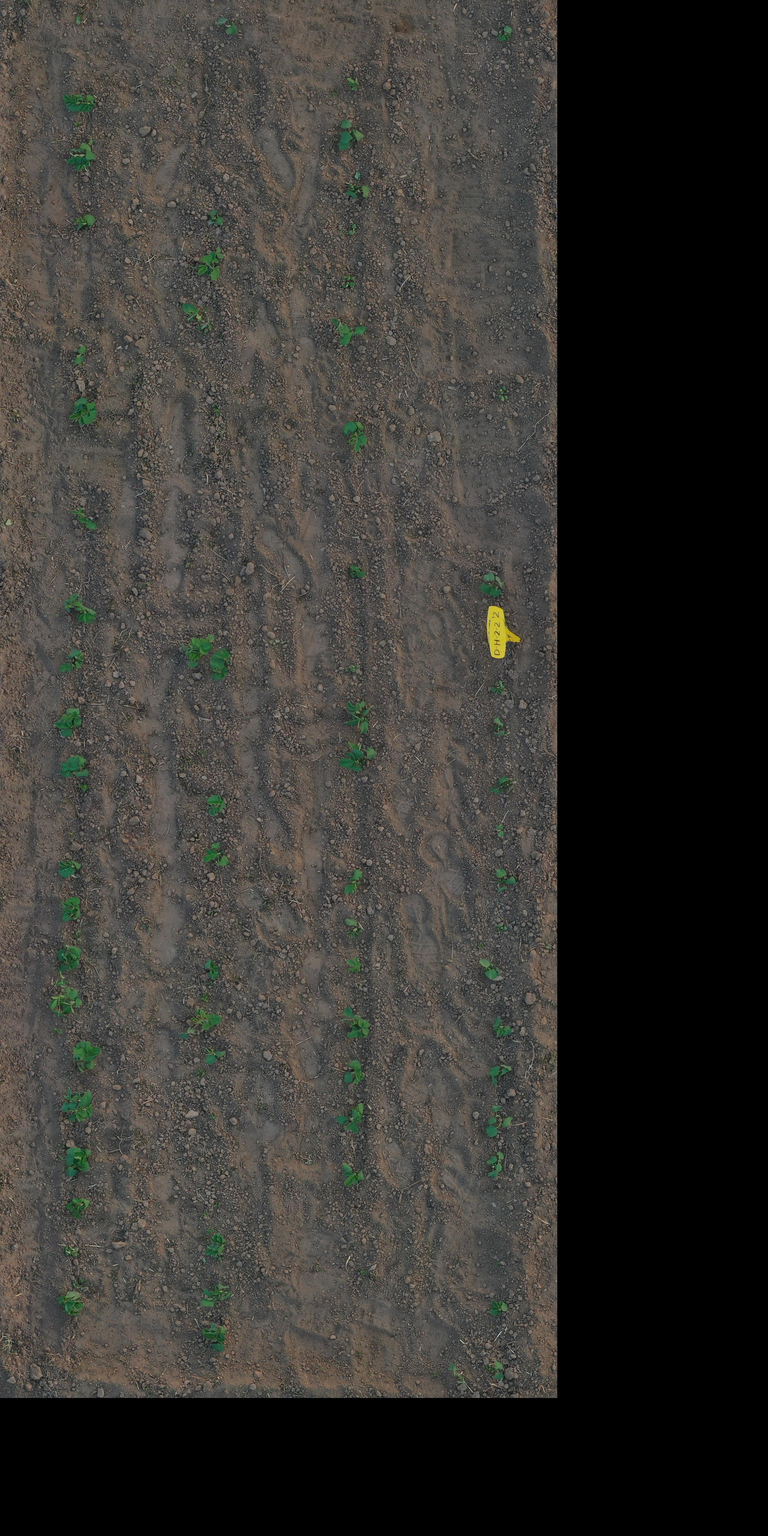s: (182, 302, 212, 334), (60, 1086, 93, 1113), (345, 704, 374, 734), (75, 1040, 102, 1070), (180, 634, 214, 655), (59, 986, 83, 1015), (73, 142, 96, 172), (347, 741, 377, 764), (178, 1024, 219, 1040), (336, 1109, 362, 1134), (203, 842, 229, 866), (72, 1046, 95, 1073), (54, 716, 82, 738), (339, 748, 364, 772), (69, 406, 98, 426), (342, 1162, 365, 1187), (486, 1116, 512, 1138), (190, 1007, 223, 1024), (338, 130, 364, 151), (339, 326, 366, 346), (340, 1006, 370, 1024), (209, 654, 228, 682), (202, 1322, 226, 1343), (57, 944, 82, 964), (68, 1103, 93, 1123), (343, 1060, 362, 1086), (58, 1291, 80, 1313), (447, 1362, 468, 1385), (206, 794, 226, 817), (344, 869, 362, 894), (65, 1160, 90, 1178), (63, 593, 84, 614), (348, 431, 368, 453), (58, 859, 81, 878), (48, 994, 66, 1018), (206, 251, 220, 281), (344, 918, 364, 939), (216, 16, 238, 35), (490, 775, 512, 794), (72, 214, 96, 231), (340, 120, 356, 145), (60, 952, 80, 972), (72, 1148, 92, 1168), (479, 958, 497, 980), (204, 1047, 226, 1065), (346, 184, 370, 200), (211, 1328, 227, 1352), (62, 93, 82, 112), (76, 606, 97, 624), (496, 868, 517, 886), (210, 1283, 231, 1301), (197, 254, 214, 276), (210, 1233, 226, 1256), (331, 318, 350, 337), (75, 94, 95, 112), (346, 1024, 370, 1039), (59, 707, 80, 724), (65, 1146, 82, 1167), (342, 420, 364, 436), (204, 958, 220, 980), (63, 1301, 85, 1317), (61, 754, 86, 768), (200, 1289, 218, 1308), (67, 648, 84, 668), (74, 396, 96, 411), (480, 572, 495, 594), (488, 1064, 512, 1077), (490, 576, 504, 598), (71, 506, 88, 524), (213, 648, 231, 665), (60, 768, 89, 778), (66, 1202, 82, 1220), (492, 1068, 510, 1084), (490, 1300, 508, 1316), (486, 1156, 499, 1178), (346, 700, 366, 714), (488, 1105, 502, 1125), (74, 344, 87, 365), (352, 1064, 365, 1085), (186, 651, 202, 668), (62, 907, 80, 922), (72, 1197, 90, 1212), (61, 896, 80, 910), (492, 1024, 512, 1037), (497, 25, 512, 42), (346, 956, 361, 973), (492, 1360, 504, 1381), (209, 209, 224, 225), (204, 1242, 219, 1258), (351, 1102, 364, 1120), (493, 717, 505, 736), (66, 148, 79, 165), (349, 565, 366, 578), (490, 680, 505, 694), (494, 1152, 504, 1172), (58, 662, 75, 673), (84, 518, 97, 530), (66, 1249, 80, 1258), (345, 664, 359, 672), (346, 77, 359, 85), (496, 824, 504, 837), (348, 81, 358, 91), (348, 224, 357, 235), (342, 275, 355, 281), (342, 282, 355, 288), (497, 923, 508, 930), (486, 1364, 494, 1373), (348, 183, 355, 193), (499, 386, 506, 395), (64, 1247, 71, 1256), (498, 395, 508, 401), (495, 967, 501, 976), (68, 1246, 75, 1251)
